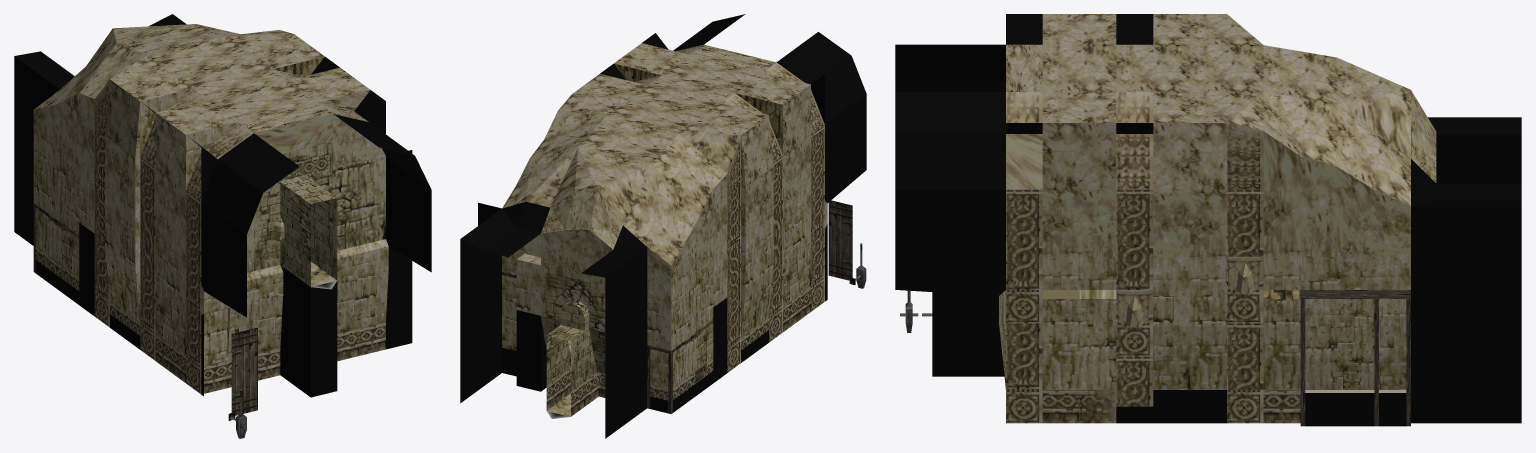
File: MAP020.obj
3 views of the same model, side by side, from view 1: azimuth 30°, elevation 25°; view 2: azimuth 150°, elevation 25°; view 3: azimuth 270°, elevation 25° (orthographic). The views are drawn at different scales.
Parts seen in each view (by area): view 1: mesh_37, mesh_86, mesh_35, mesh_79, mesh_83, mesh_76, mesh_36, mesh_25, mesh_78, mesh_28, mesh_84, mesh_106 (+17 smaller); view 2: mesh_37, mesh_99, mesh_86, mesh_35, mesh_84, mesh_19, mesh_79, mesh_62, mesh_36, mesh_78, mesh_106, mesh_69 (+18 smaller); view 3: mesh_37, mesh_22, mesh_86, mesh_99, mesh_66, mesh_24, mesh_82, mesh_21, mesh_62, mesh_83, mesh_68, mesh_67 (+12 smaller).
Part boxes in pixels (box(x1,y1,x2,y2)): mesh_37: box(34, 24, 370, 159); mesh_86: box(201, 114, 431, 317); mesh_35: box(64, 79, 201, 394); mesh_79: box(33, 134, 185, 355); mesh_83: box(280, 272, 337, 397); mesh_76: box(204, 269, 388, 366); mesh_36: box(33, 101, 185, 244); mesh_25: box(254, 169, 337, 286); mesh_78: box(94, 179, 201, 366); mesh_28: box(333, 156, 385, 250); mesh_84: box(14, 56, 59, 245); mesh_106: box(33, 189, 140, 321); mesh_37: box(502, 43, 810, 265); mesh_99: box(460, 201, 646, 403); mesh_86: box(673, 14, 866, 203); mesh_35: box(699, 84, 824, 372); mesh_84: box(605, 247, 647, 438); mesh_19: box(541, 265, 605, 391); mesh_79: box(671, 186, 810, 337); mesh_62: box(502, 297, 768, 413); mesh_36: box(671, 135, 810, 287); mesh_78: box(727, 175, 824, 347); mesh_106: box(671, 217, 773, 350); mesh_69: box(502, 259, 668, 387); mesh_37: box(1006, 14, 1410, 205); mesh_22: box(1006, 123, 1300, 423); mesh_86: box(895, 44, 1005, 295); mesh_99: box(1411, 159, 1521, 423); mesh_66: box(1042, 259, 1406, 389); mesh_24: box(1006, 131, 1373, 256); mesh_82: box(1263, 189, 1410, 256); mesh_21: box(1042, 256, 1410, 355); mesh_62: box(1116, 390, 1406, 426); mesh_83: box(932, 292, 1004, 376); mesh_68: box(1153, 123, 1226, 192); mesh_67: box(1153, 192, 1226, 259).
Bounding box in the file's own units: 105 × 122 × 218.
21 materials, 21 textured.
